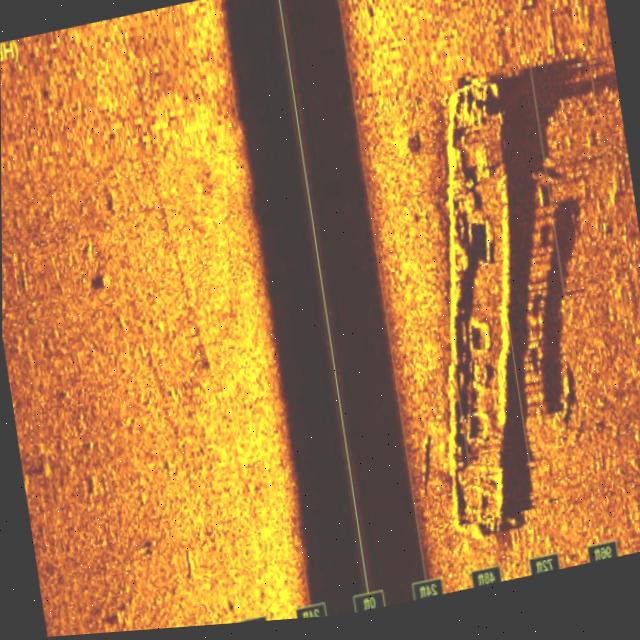shipwreck: (387, 75, 567, 550)
